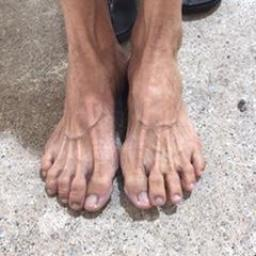Dorsal View -Both Feet-: (33, 9, 214, 226)
